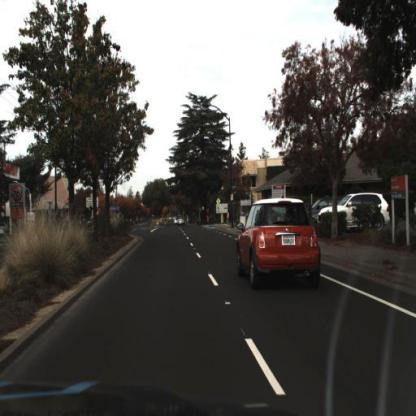car: (238, 198, 321, 288), (319, 189, 397, 241), (319, 193, 391, 231), (178, 217, 187, 227)
